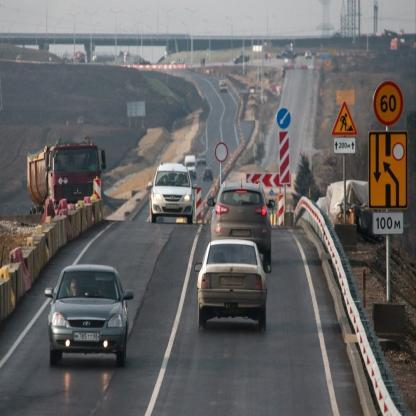road_sign: (374, 80, 403, 125), (334, 102, 358, 136), (373, 212, 402, 233), (333, 135, 355, 153), (277, 107, 291, 128), (214, 141, 228, 162)
